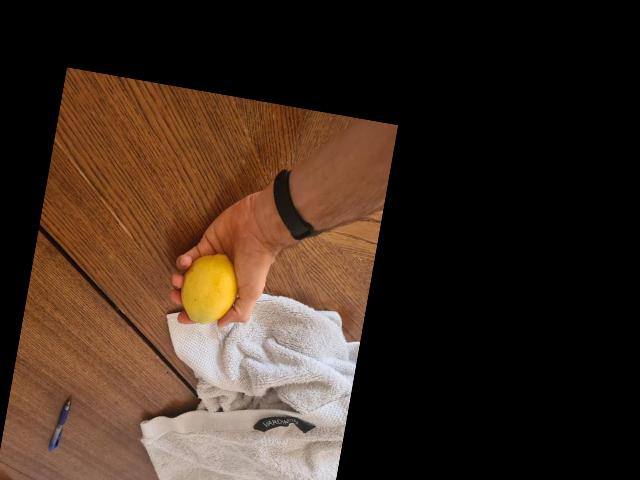lemon: (175, 246, 241, 330)
